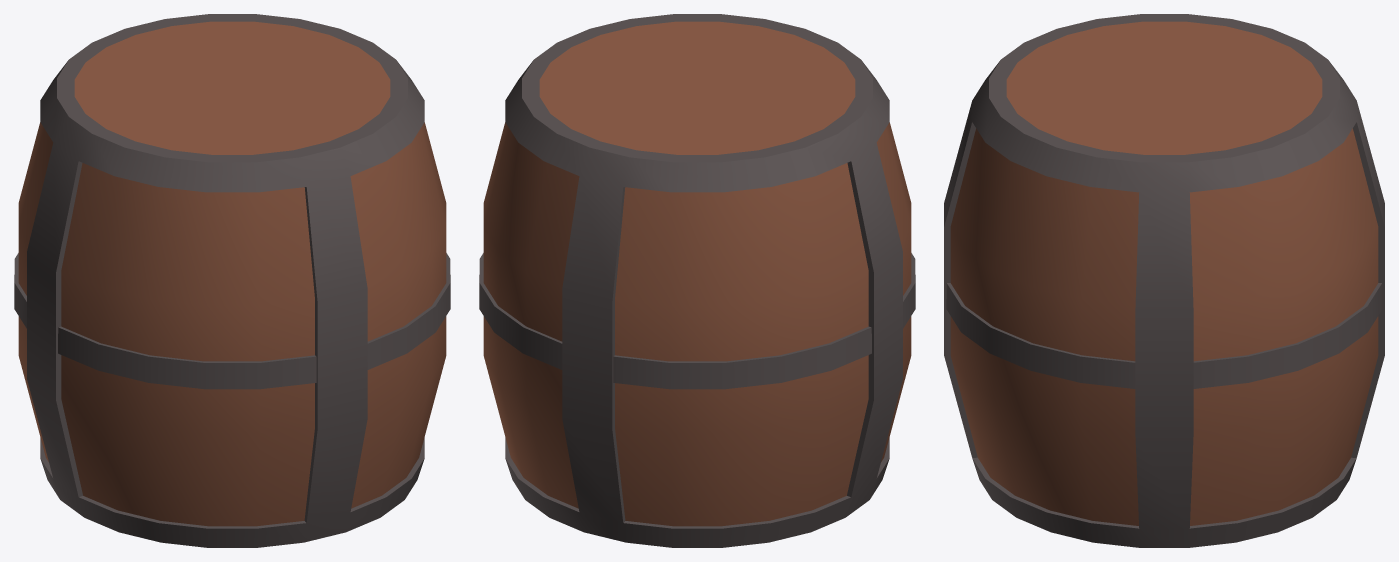
Rendered from fass.fbx.
3 renders of one model, left to right at view 1: azimuth 30°, elevation 25°; view 2: azimuth 150°, elevation 25°; view 3: azimuth 270°, elevation 25°, orthographic.
Parts seen in each view (by area): view 1: Fass; view 2: Fass; view 3: Fass.
Part boxes in pixels (x1,y1,x2,y2): Fass: (14,14,450,547); Fass: (479,14,915,547); Fass: (944,14,1384,547).
Size of the model in its own units: 183 by 174 by 183.
